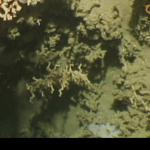alive: (3, 2, 148, 136)
